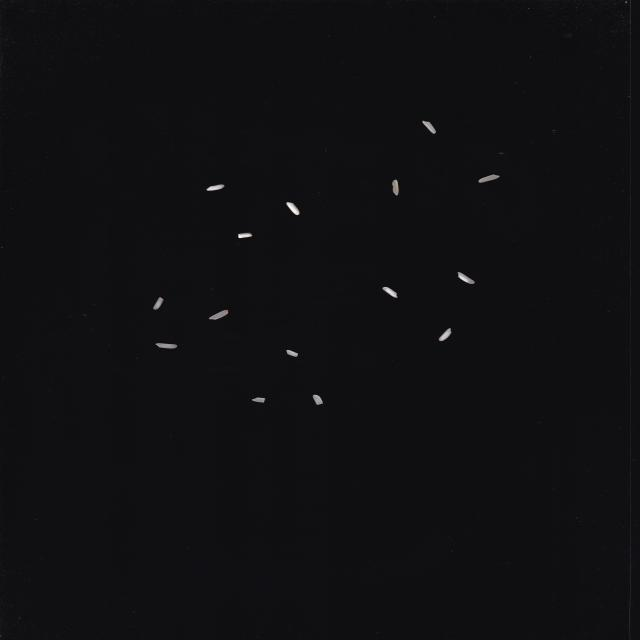Chalky: (457, 272, 475, 284), (438, 328, 452, 341), (382, 287, 398, 298)
Not: (208, 310, 229, 320), (478, 174, 500, 183), (286, 202, 300, 216), (422, 120, 436, 134), (312, 394, 324, 406), (153, 297, 164, 310), (155, 343, 178, 349), (206, 184, 225, 191), (392, 179, 399, 196), (238, 232, 253, 238), (286, 350, 298, 357), (252, 397, 266, 403)
